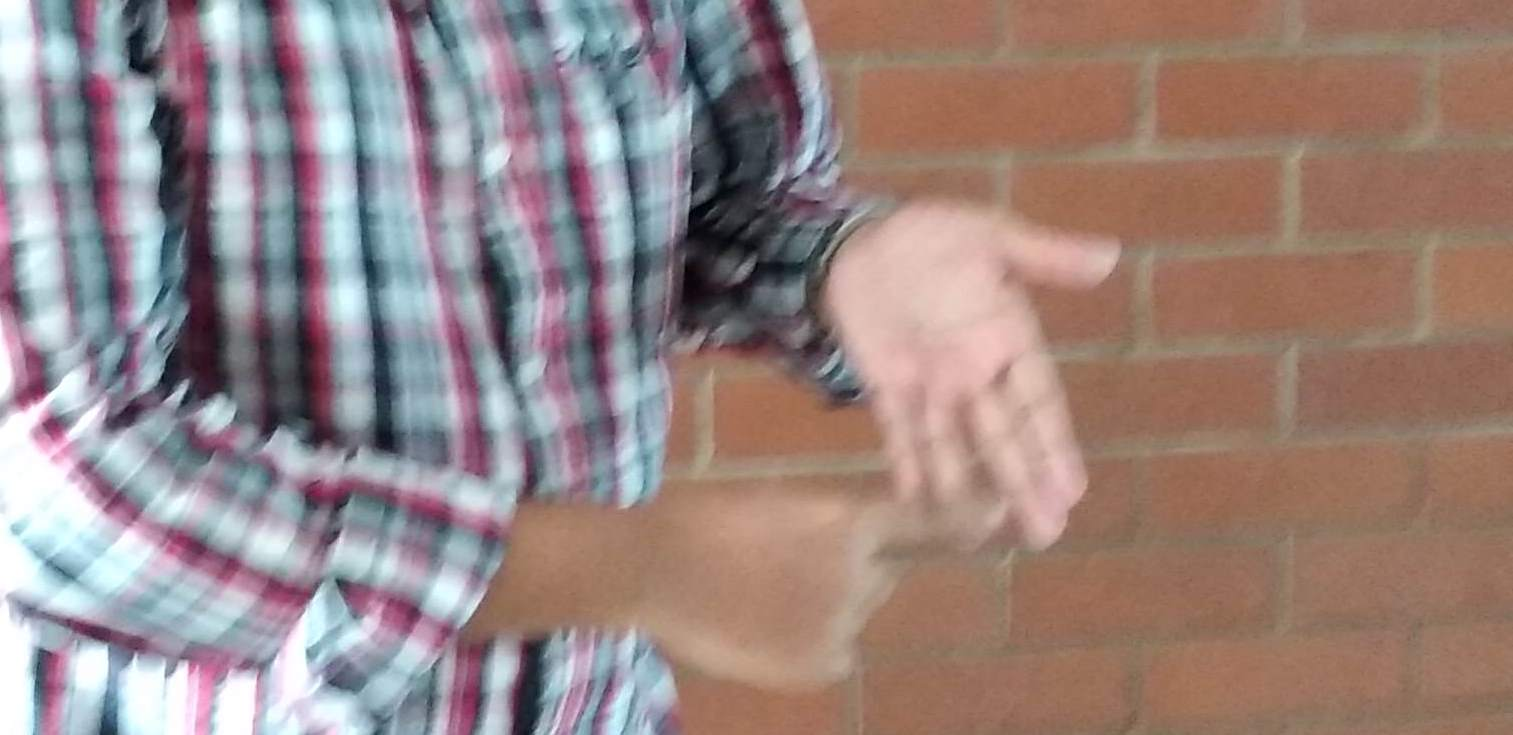e: (729, 270, 1140, 604)
